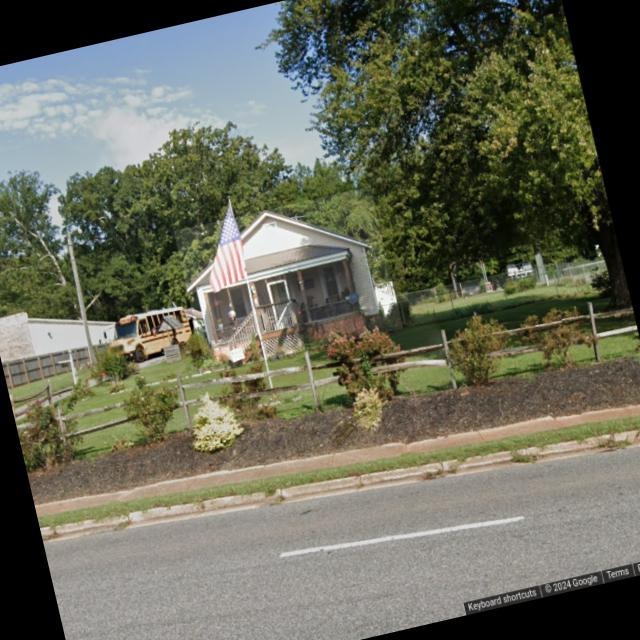House: (173, 185, 403, 372)
